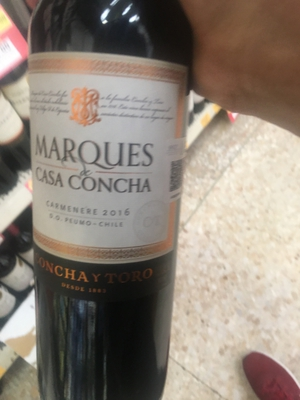marques de casa concha carmenere: (27, 11, 181, 394)
